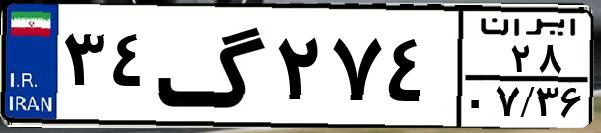0: (470, 70, 495, 125)
2: (270, 28, 330, 110), (508, 27, 537, 80)
3: (57, 26, 110, 100), (535, 70, 560, 125)
4: (385, 28, 445, 110), (110, 28, 156, 98)
6: (560, 70, 590, 125)
7: (330, 28, 385, 110), (495, 70, 520, 125)
8: (537, 27, 568, 80)
گ: (156, 12, 270, 120)
